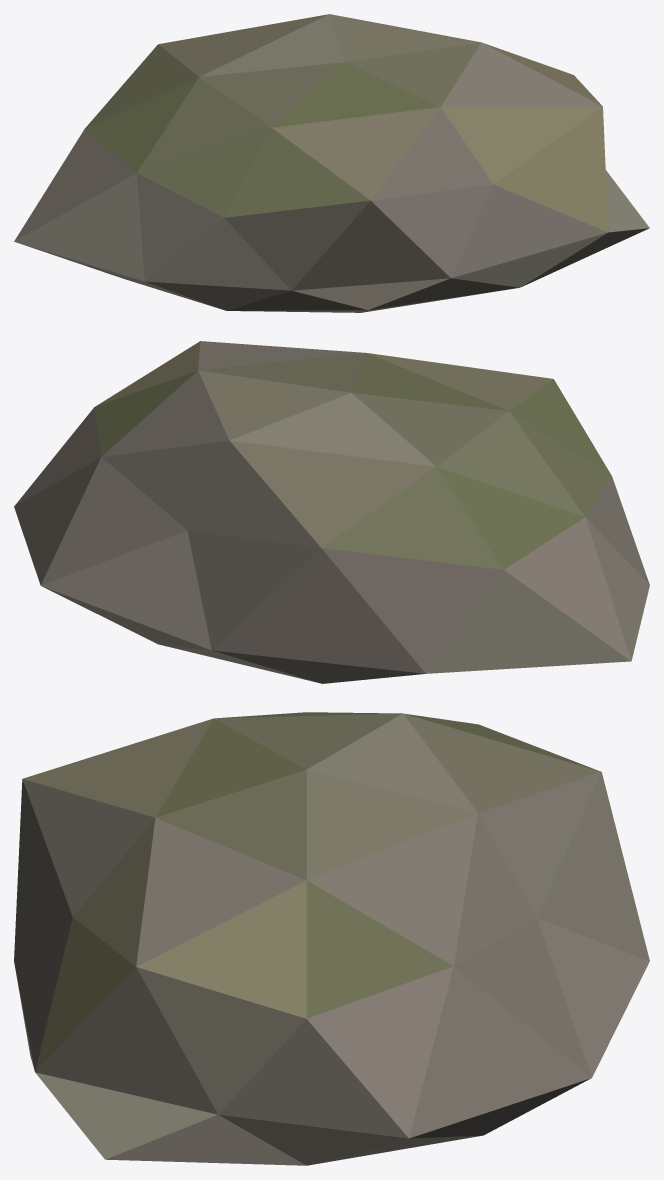
Rendered from env_boulder_c.glb.
The picture shows the model from 3 angles, top to bottom: view 1: azimuth 30°, elevation 25°; view 2: azimuth 150°, elevation 25°; view 3: azimuth 270°, elevation 25°; orthographic projection. The views are drawn at different scales.
Parts seen in each view (by area): view 1: env_boulder_c; view 2: env_boulder_c; view 3: env_boulder_c.
Boxes of the visible parts, x1,y1,x2,y2 form: env_boulder_c: (14, 14, 649, 312); env_boulder_c: (14, 341, 649, 683); env_boulder_c: (14, 712, 649, 1165).
Bounding box in the file's own units: 4.94 × 1.74 × 3.56.
